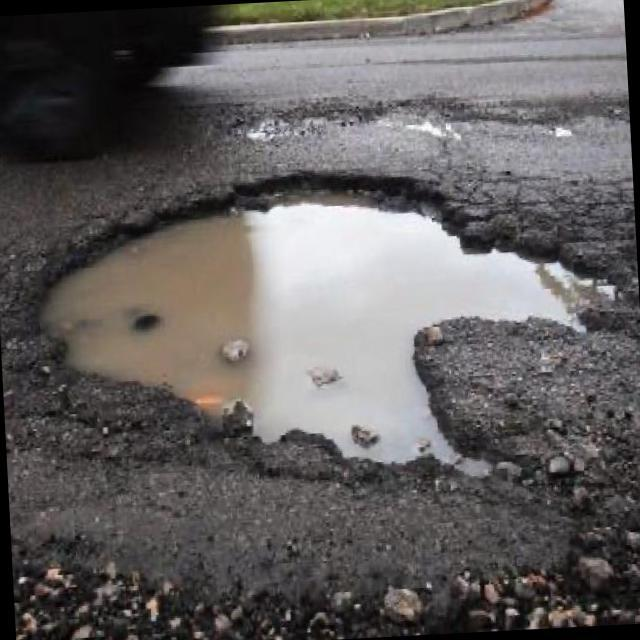Pothole: (43, 203, 585, 463)
